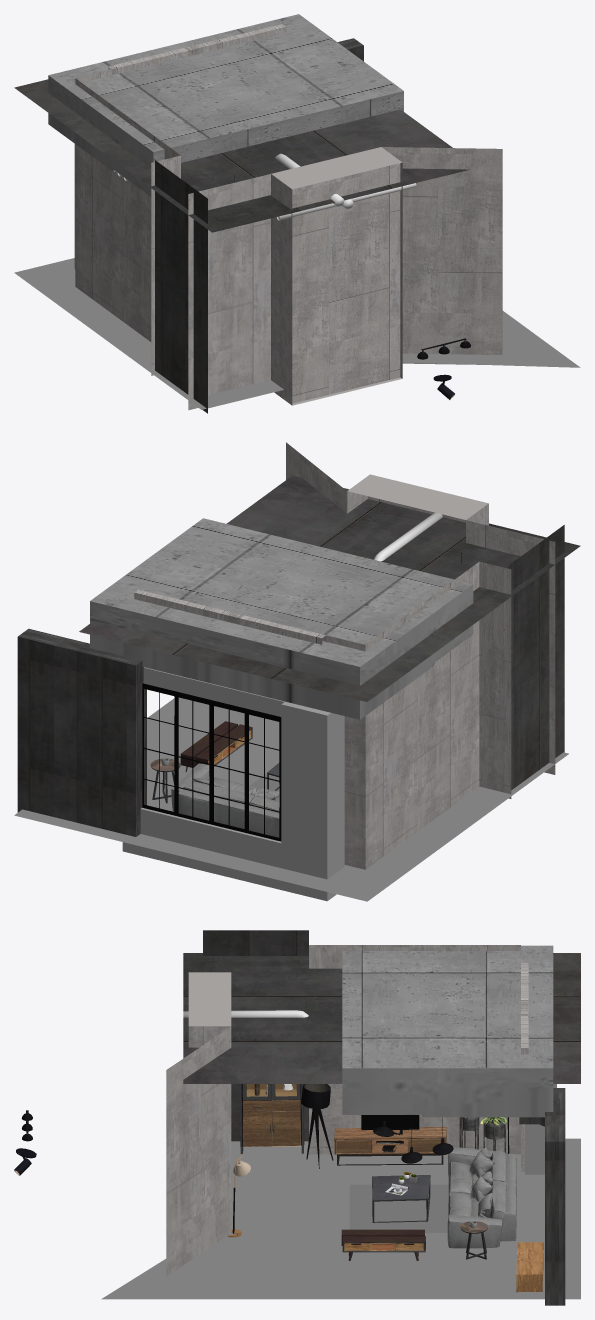
File: candidate.roomkit.living-room-06d0.glb
3 renders of one model, top to bottom at view 1: azimuth 30°, elevation 25°; view 2: azimuth 150°, elevation 25°; view 3: azimuth 270°, elevation 25°, orthographic. The views are drawn at different scales.
Parts seen in each view (by area): view 1: Plane.002_Material.001_0, Cube.002_Material.008_0, Plane.001_Material.001_0, Plane.004_Material.002_0, Plane.003_Material.002_0, object 14, material.003_Material.012_0, Cylinder.001_Material.010_0; view 2: Cube.002_Material.008_0, Plane.001_Material.001_0, Cube.003_Material.002_0, Plane.004_Material.002_0, Cube_Material.003_0, object 14, Plane.003_Material.002_0, Plane.002_Material.001_0, object 19, material_Material.004_0, material.002_Material.011_0, Cylinder.004_Material.010_0; view 3: object 14, Cube.002_Material.008_0, Plane.004_Material.002_0, Plane.002_Material.001_0, material_Material.004_0, material.001_Material.009_0, Plane.001_Material.001_0, Cube.003_Material.002_0, material.002_Material.011_0, Cube.001_Material.006_0, Plane.003_Material.002_0, material.003_Material.012_0 (+2 smaller).
Boxes of the visible parts, box(x1,y1,x2,y2) form: Plane.002_Material.001_0: box(188, 147, 502, 410); Cube.002_Material.008_0: box(48, 14, 403, 196); Plane.001_Material.001_0: box(75, 24, 286, 375); Plane.004_Material.002_0: box(14, 79, 469, 232); Plane.003_Material.002_0: box(155, 160, 207, 413); object 14: box(14, 258, 580, 409); material.003_Material.012_0: box(234, 174, 470, 399); Cylinder.001_Material.010_0: box(276, 183, 416, 220); Cube.002_Material.008_0: box(90, 518, 473, 719); Plane.001_Material.001_0: box(134, 561, 511, 869); Cube.003_Material.002_0: box(17, 628, 146, 836); Plane.004_Material.002_0: box(79, 475, 580, 701); Cube_Material.003_0: box(122, 667, 344, 901); object 14: box(14, 697, 568, 901); Plane.003_Material.002_0: box(507, 525, 564, 790); Plane.002_Material.001_0: box(286, 442, 555, 774); object 19: box(142, 683, 281, 841); material_Material.004_0: box(171, 763, 279, 837); material.002_Material.011_0: box(150, 721, 252, 803); Cylinder.004_Material.010_0: box(374, 512, 442, 561); object 14: box(101, 1138, 580, 1299); Cube.002_Material.008_0: box(342, 945, 553, 1117); Plane.004_Material.002_0: box(183, 953, 580, 1083); Plane.002_Material.001_0: box(166, 972, 231, 1276); material_Material.004_0: box(372, 1147, 543, 1292); material.001_Material.009_0: box(239, 1084, 446, 1165); Plane.001_Material.001_0: box(309, 945, 528, 1171); Cube.003_Material.002_0: box(519, 1088, 565, 1305); material.002_Material.011_0: box(341, 1117, 506, 1260); Cube.001_Material.006_0: box(349, 1184, 448, 1232); Plane.003_Material.002_0: box(203, 930, 308, 1141); material.003_Material.012_0: box(14, 1084, 509, 1237).
Size of the model in its own units: 37.81 by 25.12 by 55.72.
12 materials, 8 textured.
